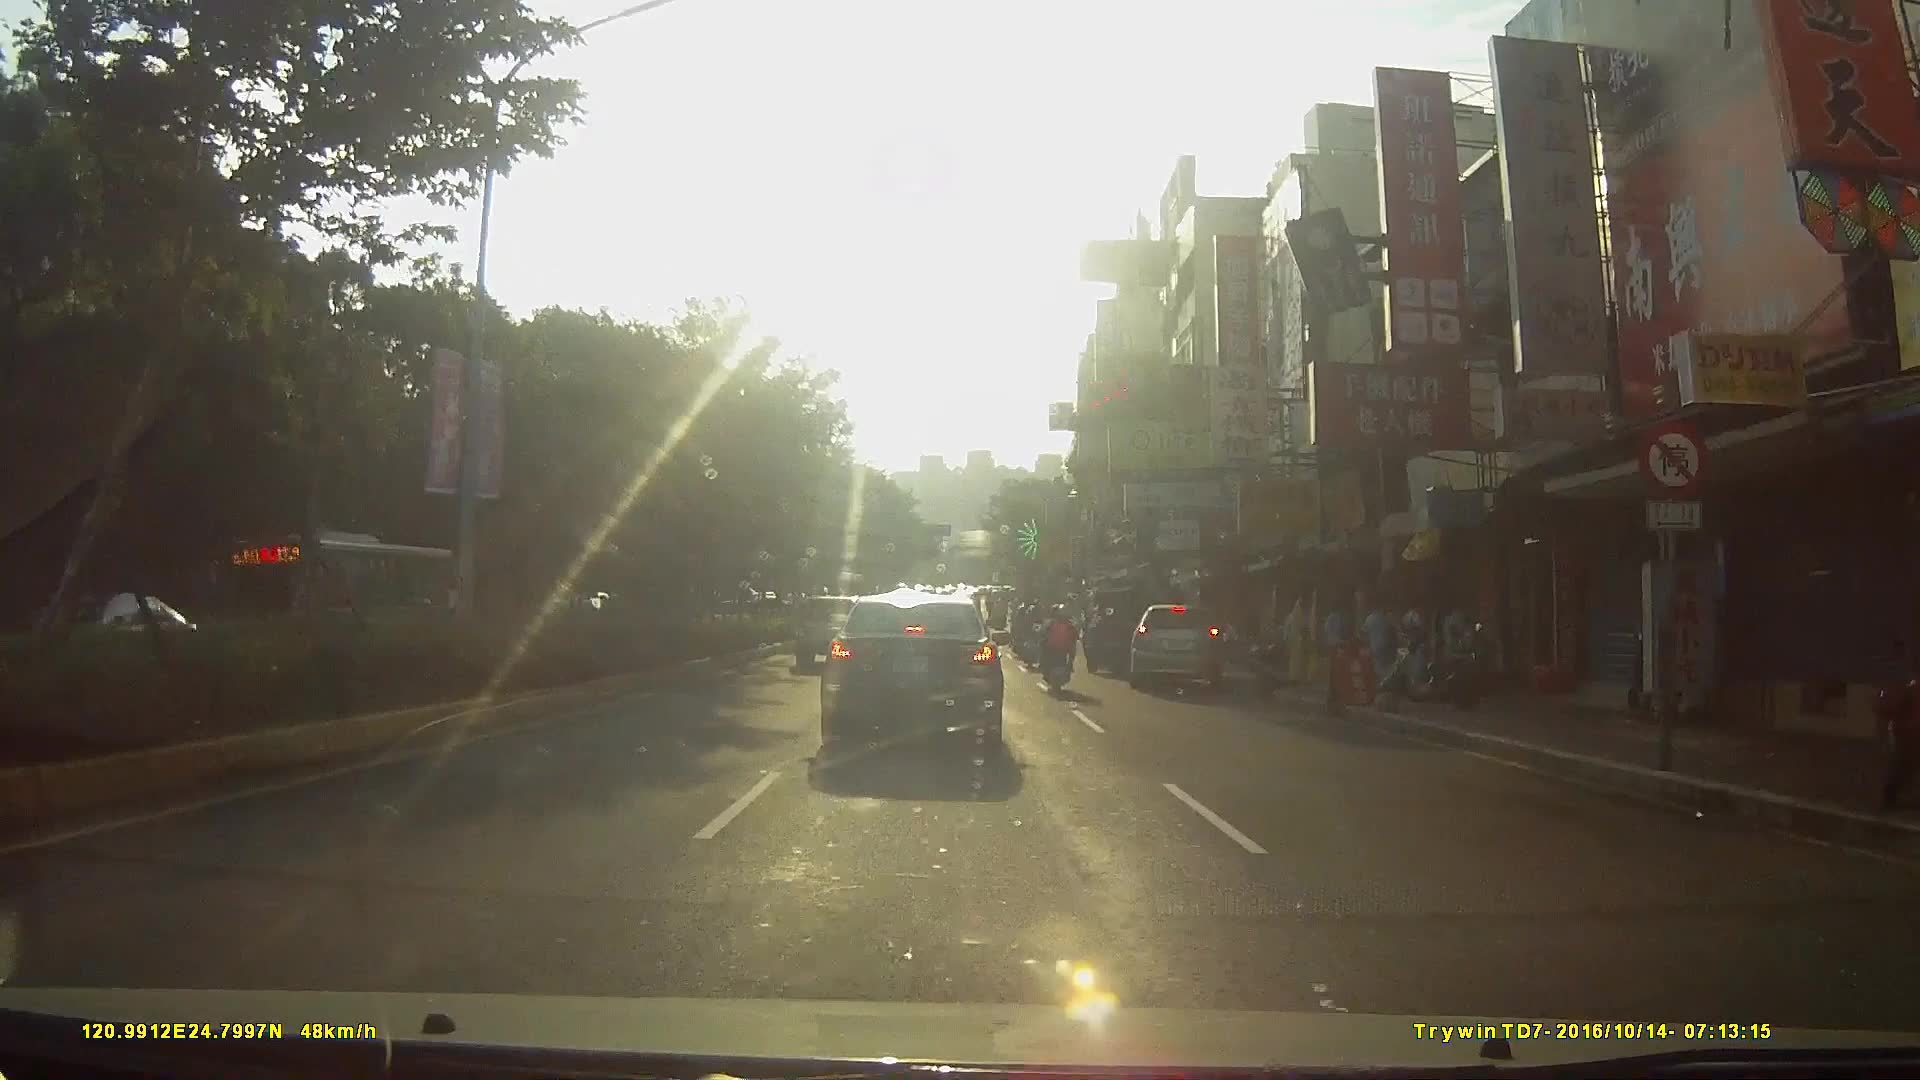pedestrian: (1362, 597, 1401, 688), (1403, 596, 1423, 664)
rider: (1041, 598, 1085, 696), (1017, 602, 1043, 670)
vehicle: (820, 588, 1030, 766), (219, 525, 463, 665), (1134, 598, 1237, 694), (1078, 577, 1170, 677)
